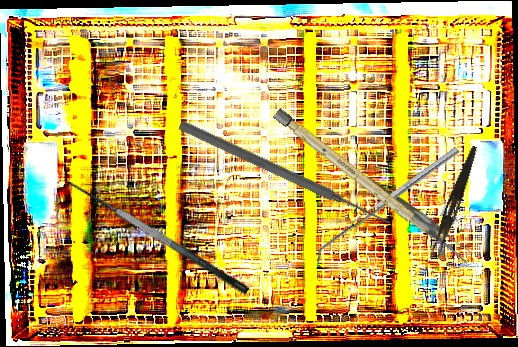Dressing Forceps: (364, 151, 476, 285), (430, 143, 479, 260)
Pusher: (176, 118, 396, 231)
Scalpel Handle: (272, 107, 433, 237)
Spatula Surgical: (57, 170, 251, 311), (310, 146, 464, 264)
